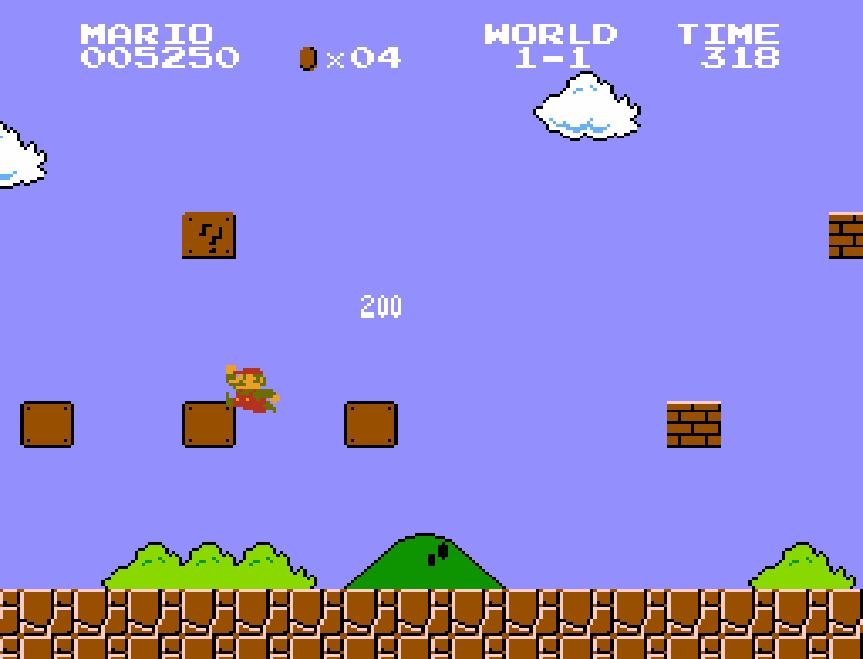little_mario: (223, 364, 281, 414)
